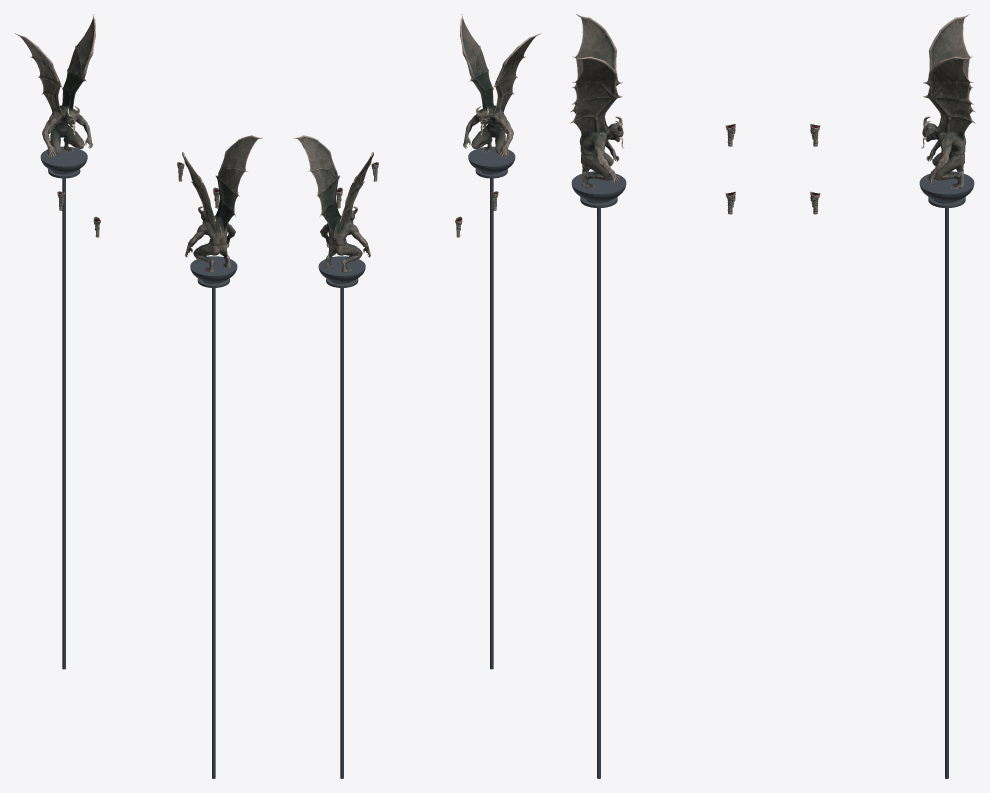
File: per100mid.glb
The picture shows the model from 3 angles, left to right: view 1: azimuth 30°, elevation 25°; view 2: azimuth 150°, elevation 25°; view 3: azimuth 270°, elevation 25°; orthographic projection. The views are drawn at different scales.
Visible parts, largest first — view 1: per100mid; view 2: per100mid; view 3: per100mid.
Boxes of the visible parts, bbox=[...] form: per100mid: bbox=[14, 14, 262, 778]; per100mid: bbox=[293, 14, 541, 778]; per100mid: bbox=[570, 14, 975, 778].
Size of the model in its own units: 0.8383 by 4.08 by 2.02.
Materials: 3 (2 with a texture image).
